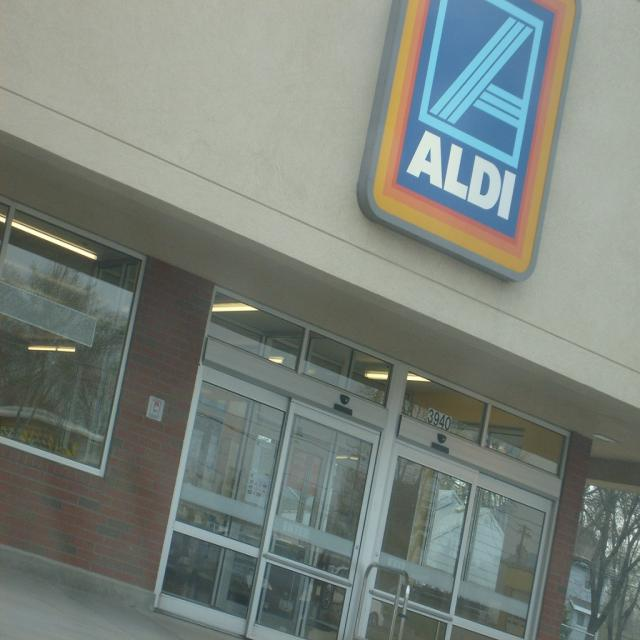aldi: (374, 2, 580, 274)
